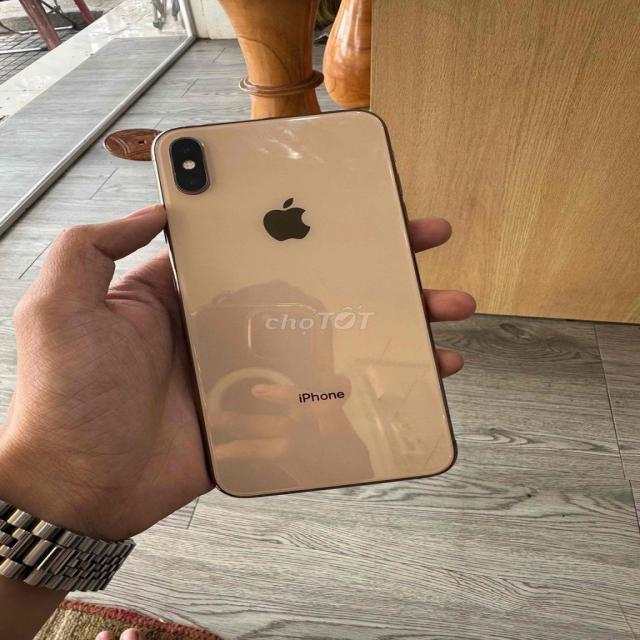scratch: (371, 390, 396, 412)
